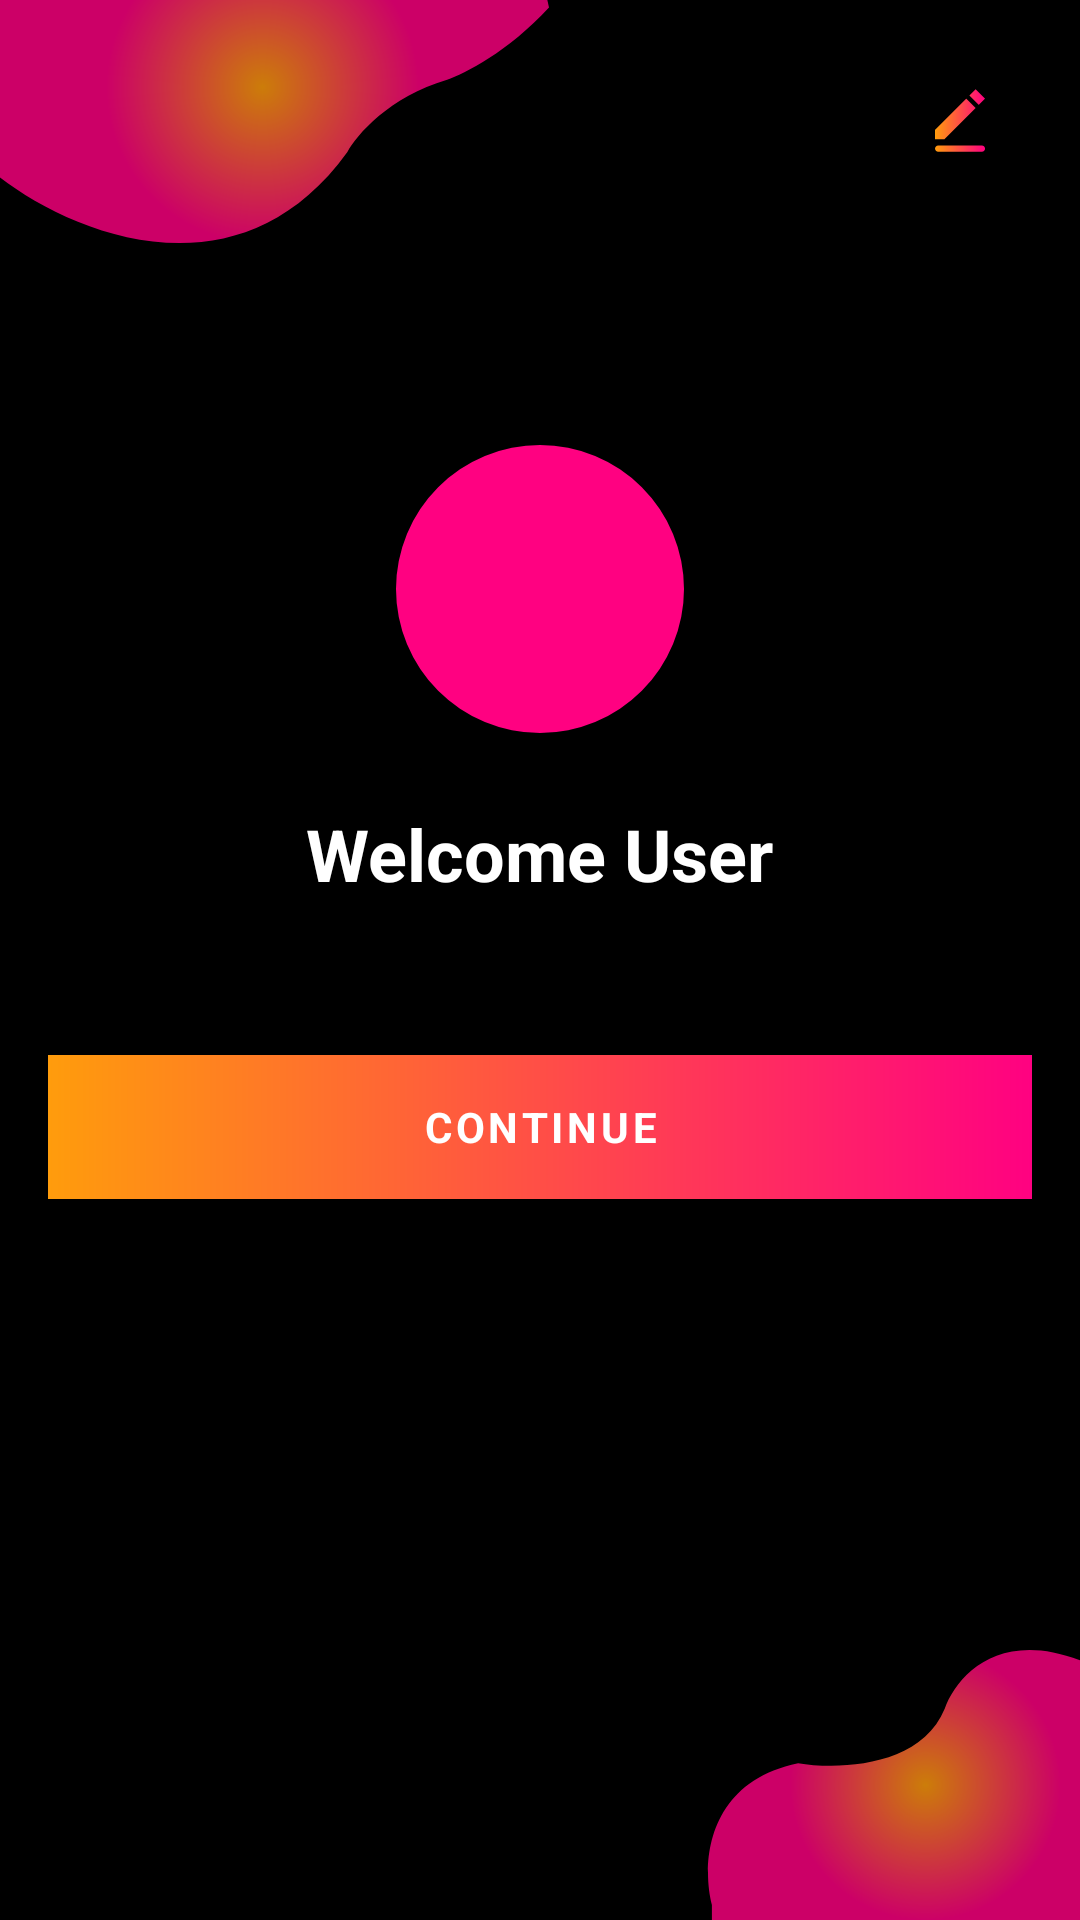

Icon bounding boxes for this 1080w x 1920h phone screenshot, format (x1, y1, x2, y2):
edit: (935, 89, 985, 152)
